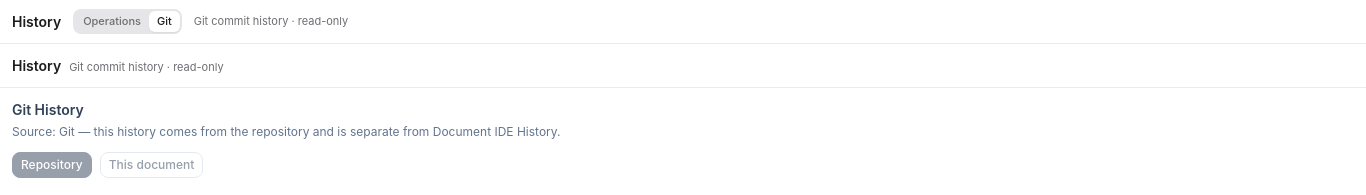
Test case: HistoryScreen — HIST-04 real operation listing › an unavailable storage read is a genuine failure, not a fabricated meter
Click the radio button labelled "Operations" at {"x": 112, "y": 22}, box [75,11,149,32]
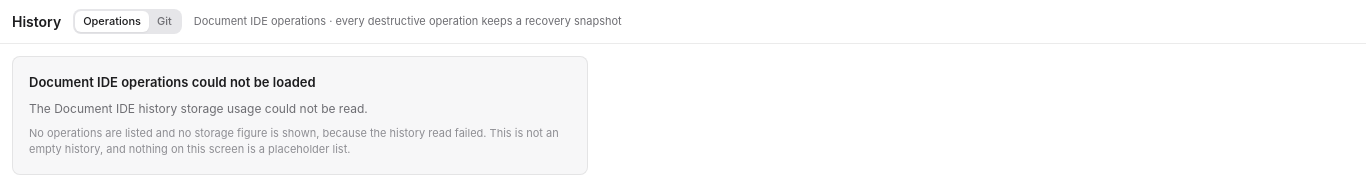
Result: the message with test id "history-operations-unavailable" shows "could not be loaded" at [29,74,316,90]
